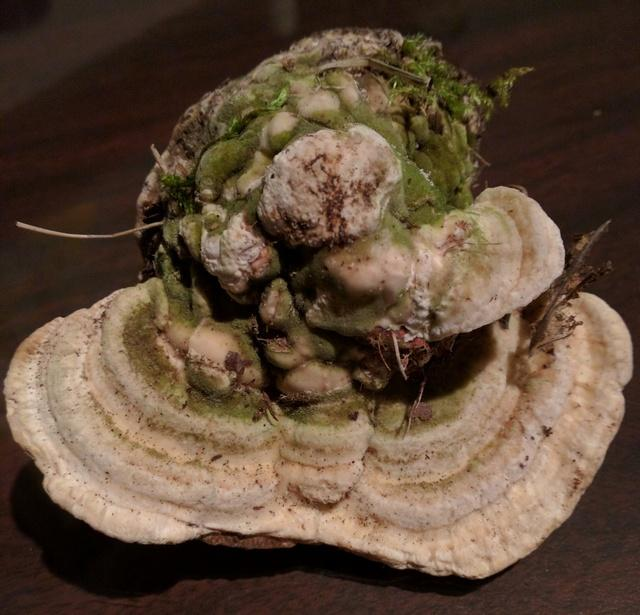Non-edible Mushroom: (2, 25, 634, 580)
